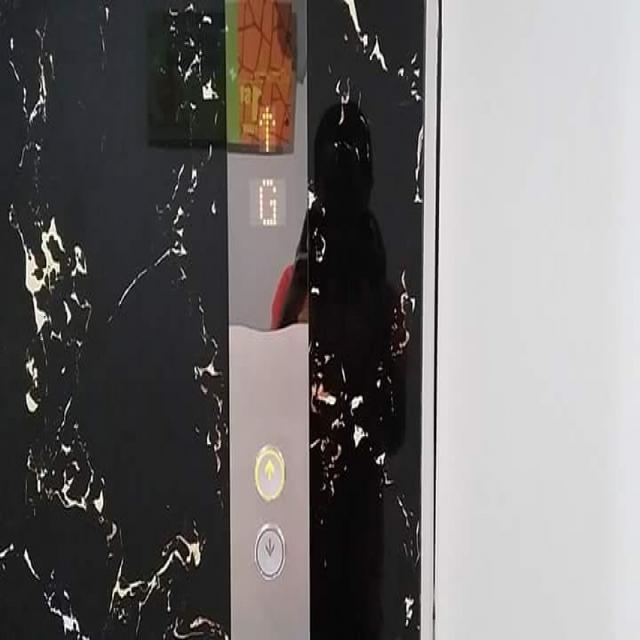down: (252, 519, 287, 581)
led: (245, 65, 288, 236)
up: (251, 440, 286, 501)
